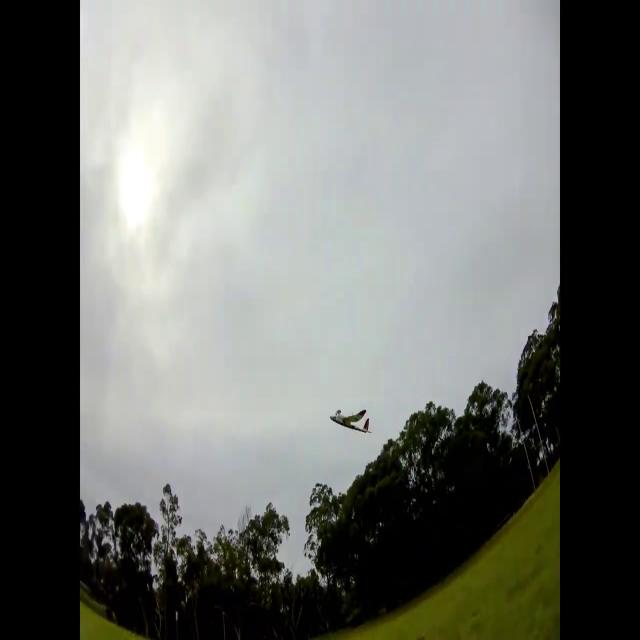iha: (332, 408, 370, 437)
